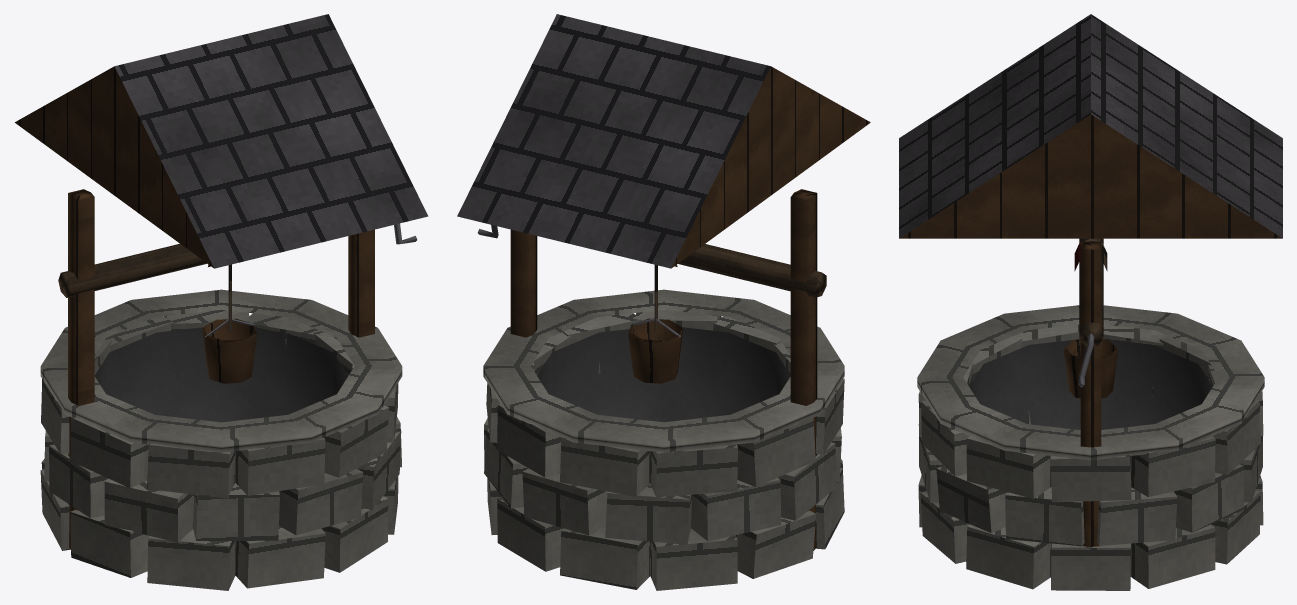
Rendered from ext_well.glb.
The picture shows the model from 3 angles, left to right: view 1: azimuth 30°, elevation 25°; view 2: azimuth 150°, elevation 25°; view 3: azimuth 270°, elevation 25°; orthographic projection. The views are drawn at different scales.
Parts seen in each view (by area): view 1: detail, ring-col; view 2: detail, ring-col; view 3: detail, ring-col.
Part boxes in pixels (<box>): detail: <box>15,14,428,549</box>; ring-col: <box>40,309,401,590</box>; detail: <box>457,14,870,550</box>; ring-col: <box>484,309,844,590</box>; detail: <box>899,14,1282,546</box>; ring-col: <box>918,324,1263,590</box>.
Size of what is drawn, in the model's own units: 2.1 by 2.77 by 2.1.
8 materials, 8 textured.
